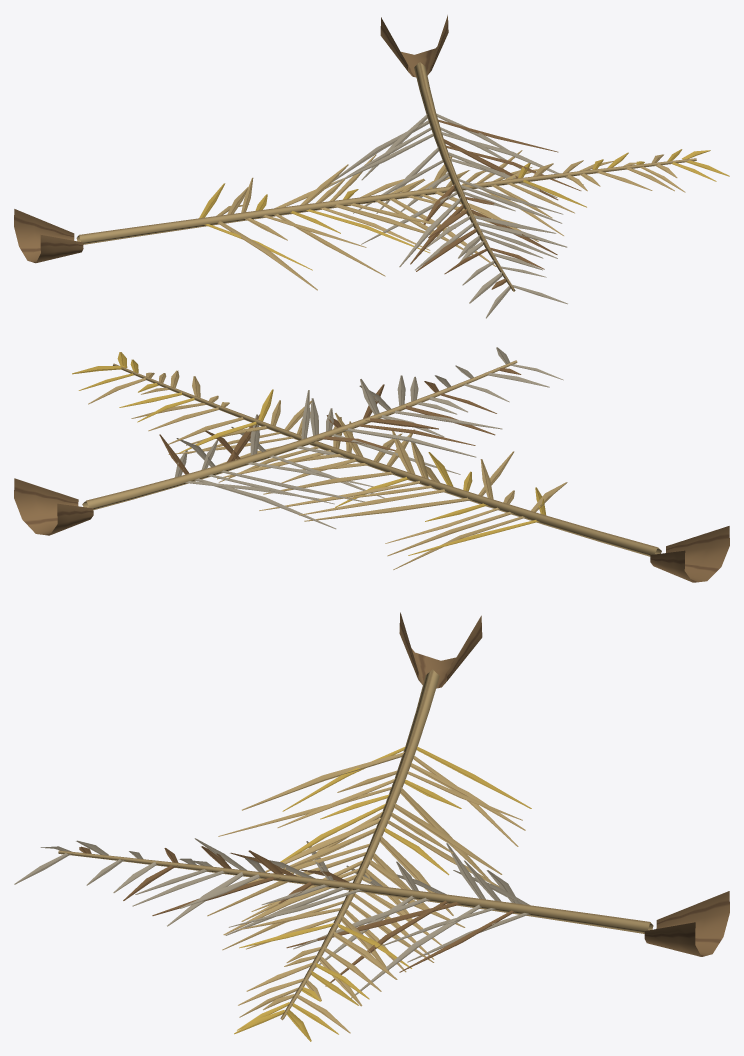
3 views of the same model, one above another, from view 1: azimuth 30°, elevation 25°; view 2: azimuth 150°, elevation 25°; view 3: azimuth 270°, elevation 25° (orthographic). The views are drawn at different scales.
Visible parts, largest first — view 1: debris; view 2: debris; view 3: debris.
Boxes of the visible parts, x1,y1,x2,y2 form: debris: (14,15,729,318); debris: (14,347,729,582); debris: (14,612,729,1041).
Size of the model in its own units: 4.72 by 0.503 by 3.78.
1 material, 1 textured.
